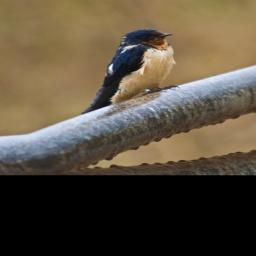Swallow: (44, 23, 206, 115)
